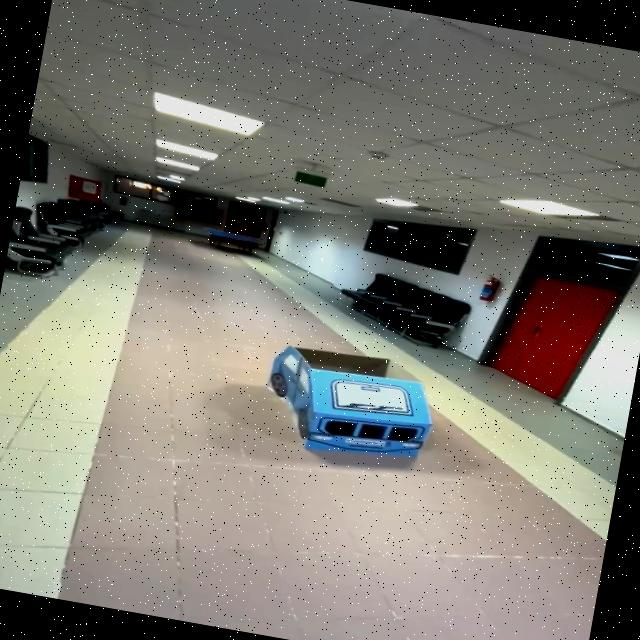blue_car: (242, 310, 473, 503)
